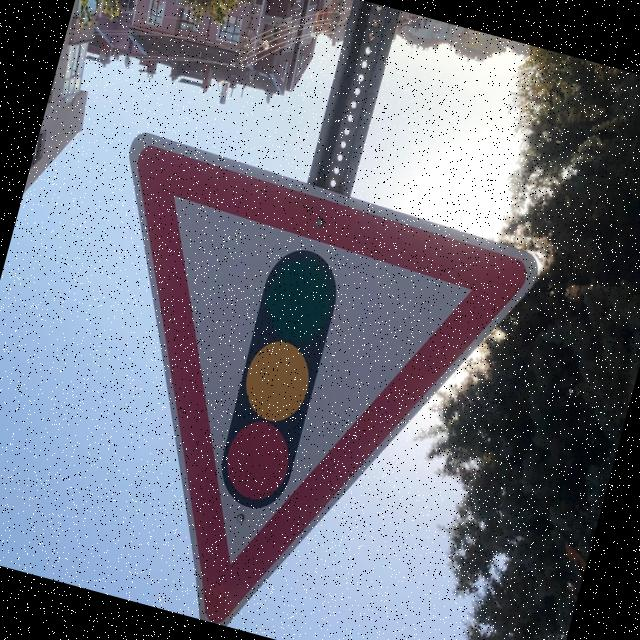light_traffic: (20, 129, 545, 640)
